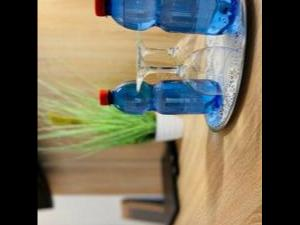bottle: (89, 0, 244, 38), (94, 74, 224, 118)
